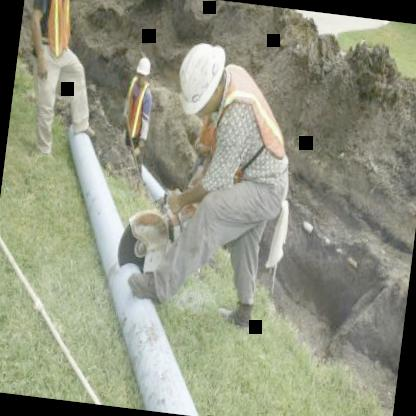helmet: (172, 36, 232, 120), (131, 52, 153, 86)
